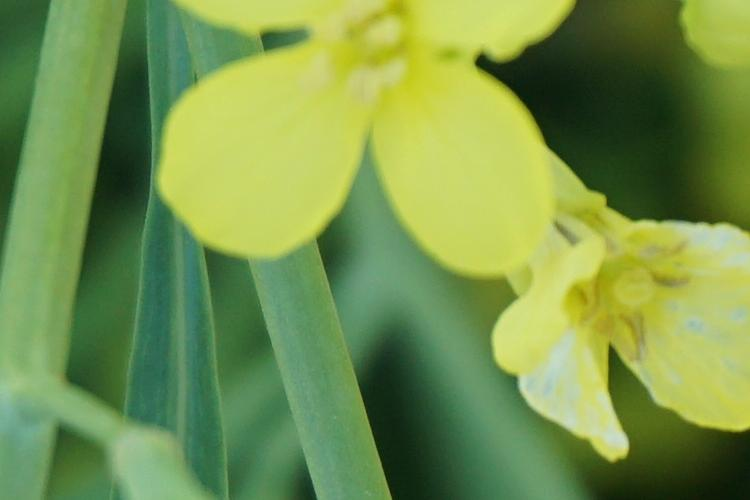yellow: (151, 1, 567, 276), (492, 143, 750, 460)
